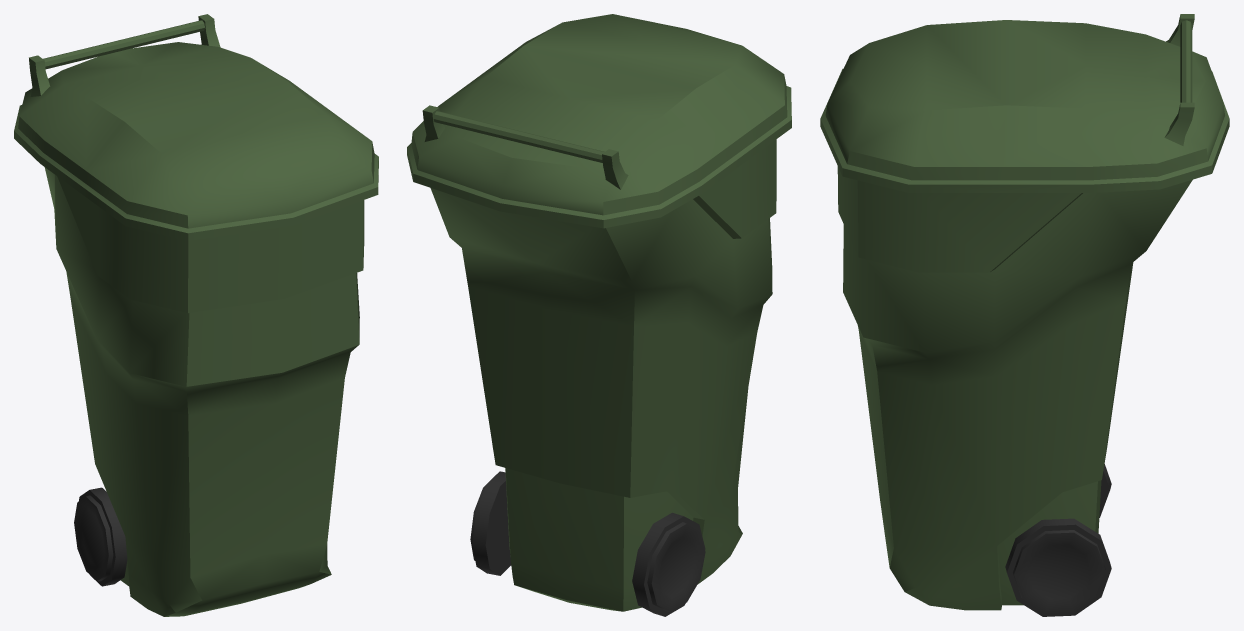
Rendered from quaternius-house-interior-trashcan-green.glb.
3 views of the same model, side by side, from view 1: azimuth 30°, elevation 25°; view 2: azimuth 150°, elevation 25°; view 3: azimuth 270°, elevation 25° (orthographic). The views are drawn at different scales.
Visible parts, largest first — view 1: Trashcan_Green; view 2: Trashcan_Green; view 3: Trashcan_Green.
Boxes of the visible parts, x1,y1,x2,y2 form: Trashcan_Green: (14, 14, 378, 616); Trashcan_Green: (407, 14, 791, 616); Trashcan_Green: (820, 14, 1229, 616).
Size of the model in its own units: 1.22 by 2.21 by 1.59.
